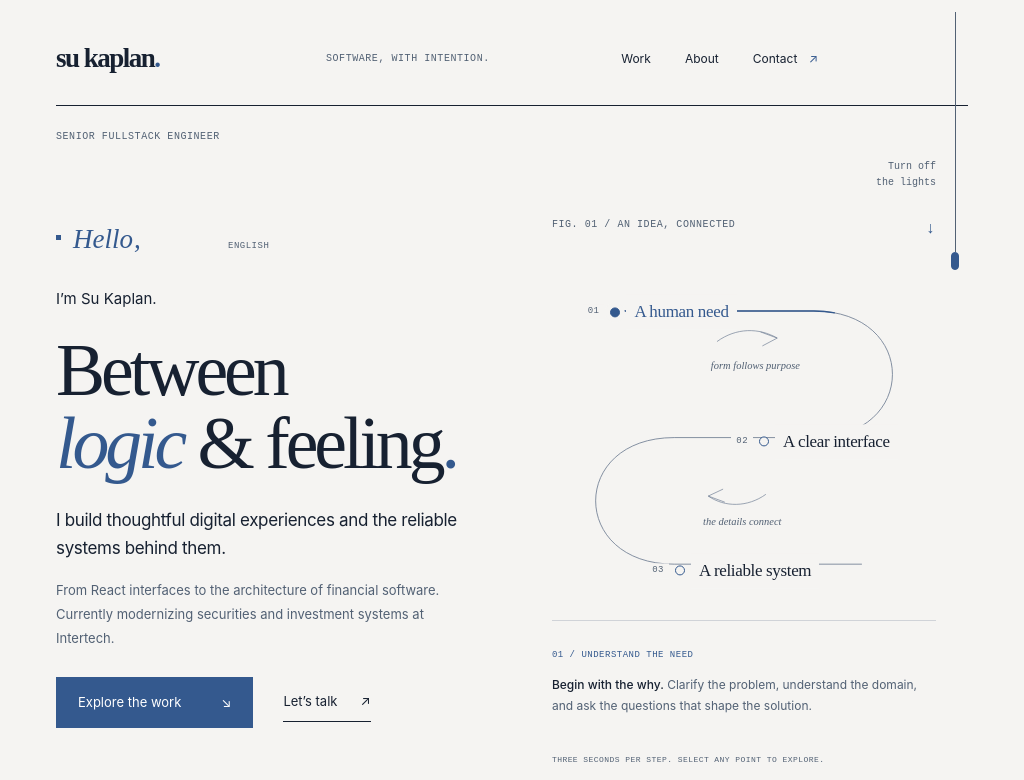
Test: the living diagram selects and explains each stage
Click the button "03 A reliable system". click: (733, 571)
box: x1=647 y1=543 x2=819 y2=598
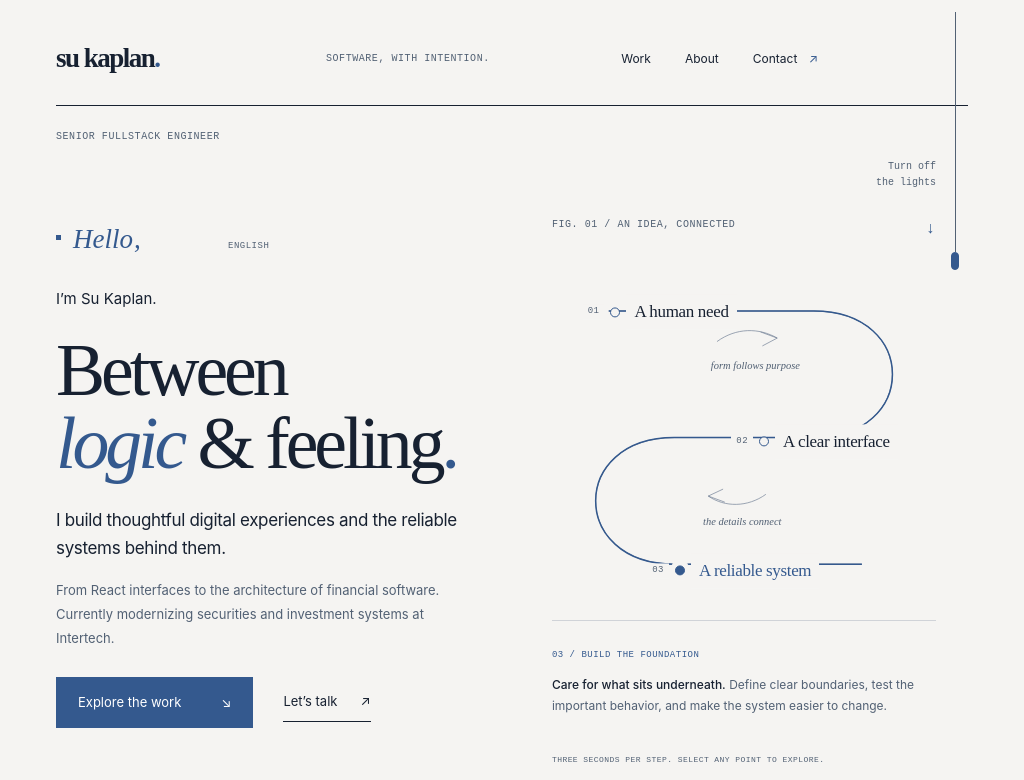
Expected: the text "Define clear boundaries, test the important behavior" is shown, x1=552 y1=676 x2=914 y2=713
